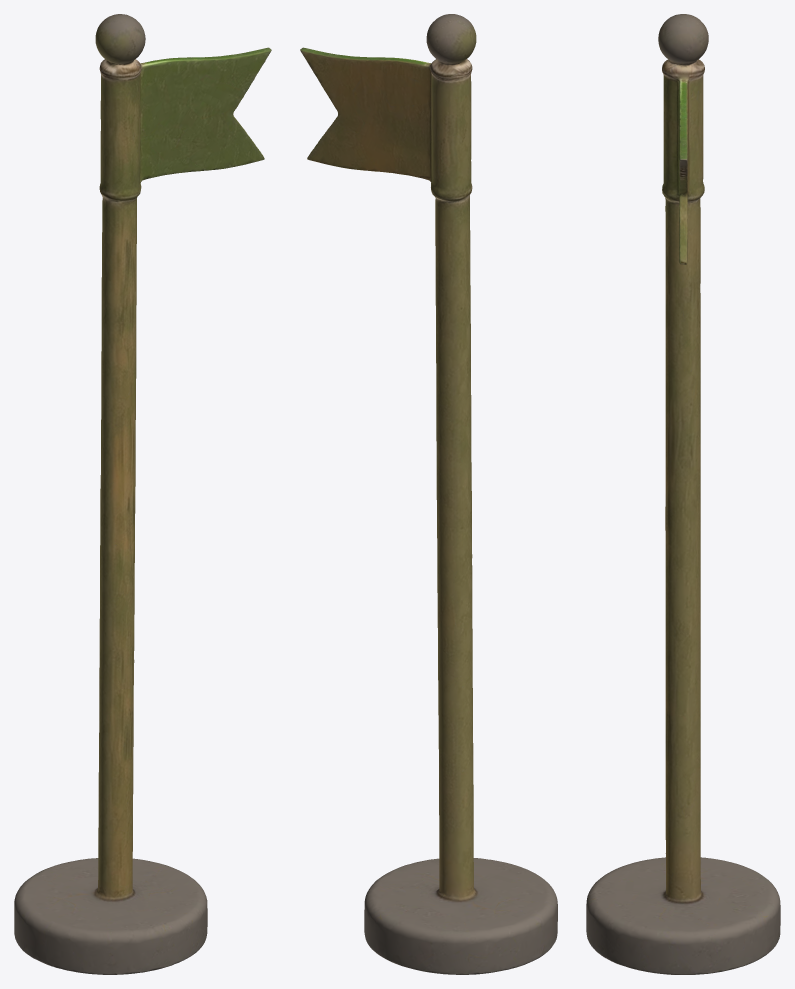
Rendered from pipsCheckpointFlag.cc2162ee.glb.
3 renders of one model, left to right at view 1: azimuth 30°, elevation 25°; view 2: azimuth 150°, elevation 25°; view 3: azimuth 270°, elevation 25°, orthographic.
Size of the model in its own units: 0.5274 by 1.9 by 0.3622.
Materials: 1 (1 with a texture image).
